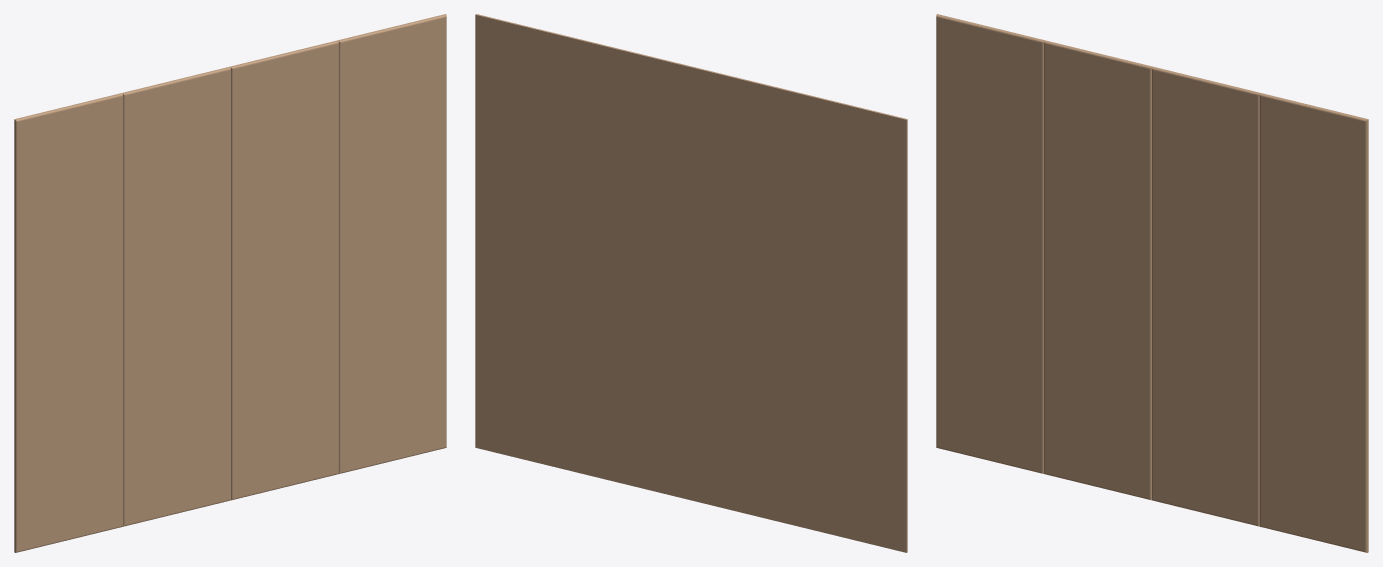
The model's file is qiang2.fbx.
3 views of the same model, side by side, from view 1: azimuth 30°, elevation 25°; view 2: azimuth 150°, elevation 25°; view 3: azimuth 330°, elevation 25° (orthographic).
Visible parts, largest first — view 1: Rectangle38; view 2: Rectangle38; view 3: Rectangle38.
Boxes of the visible parts, x1,y1,x2,y2 form: Rectangle38: (14,14,446,552); Rectangle38: (475,14,907,552); Rectangle38: (936,14,1368,552).
Bounding box in the file's own units: 348 × 334 × 2.5.
